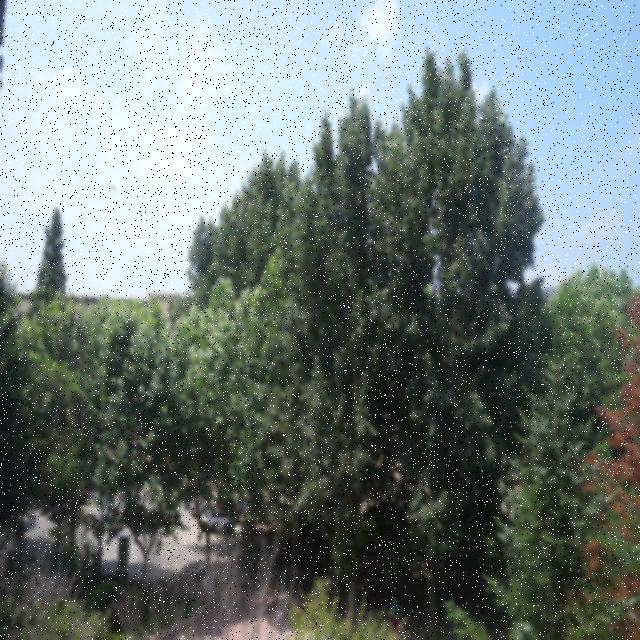UAV: (107, 182, 116, 193)
